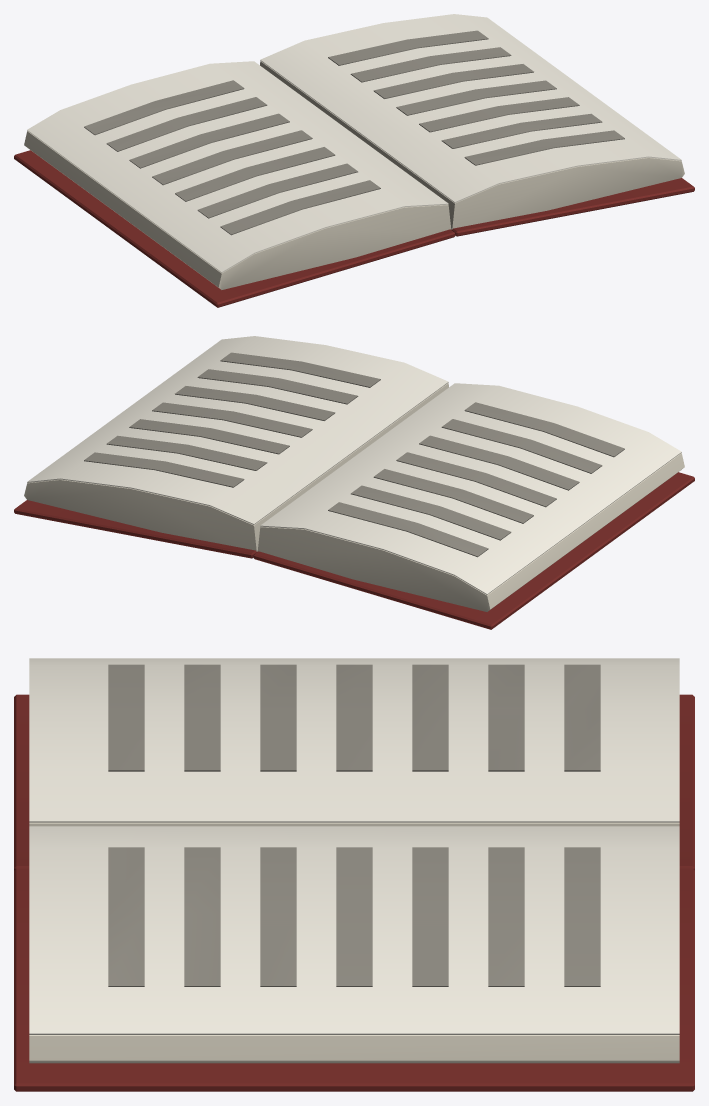
Rendered from book.glb.
3 renders of one model, top to bottom at view 1: azimuth 30°, elevation 25°; view 2: azimuth 150°, elevation 25°; view 3: azimuth 270°, elevation 25°, orthographic. The views are drawn at different scales.
Visible parts, largest first — view 1: book; view 2: book; view 3: book.
Boxes of the visible parts, x1=… form: book: x1=14, y1=14, x2=694, y2=307; book: x1=14, y1=336, x2=694, y2=629; book: x1=14, y1=658, x2=694, y2=1091.
Bounding box in the file's own units: 0.3039 × 0.0323 × 0.224.
